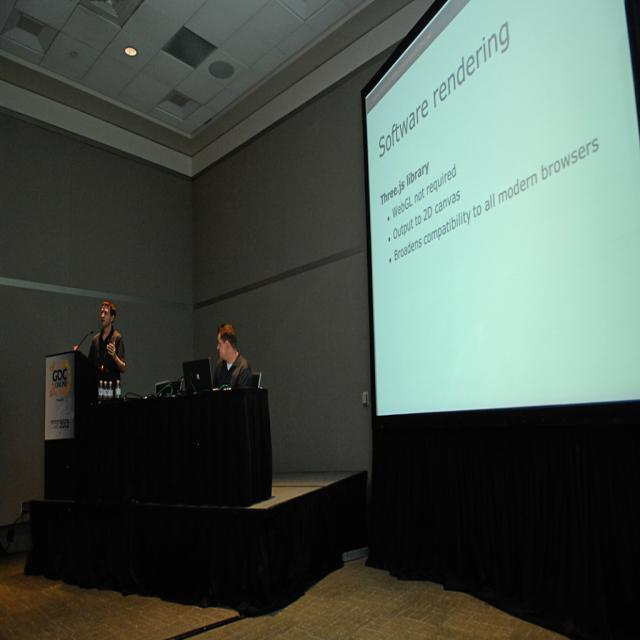desk: (98, 390, 268, 514)
laptop: (182, 357, 213, 393)
person: (88, 300, 126, 387), (212, 322, 252, 390)
tv: (360, 1, 640, 443)
